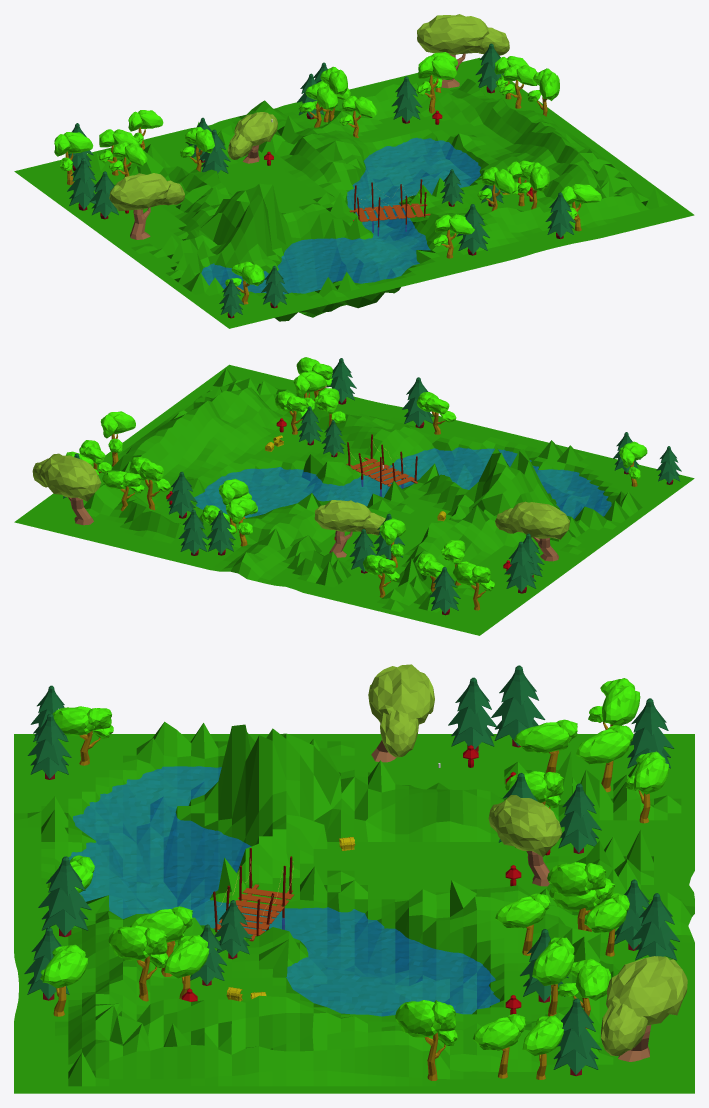
The model's file is terrenoLowPoly.fbx.
3 renders of one model, top to bottom at view 1: azimuth 30°, elevation 25°; view 2: azimuth 150°, elevation 25°; view 3: azimuth 270°, elevation 25°, orthographic. The views are drawn at different scales.
Parts seen in each view (by area): view 1: Plane001, arbol, Plane003, Cylinder011, Cylinder008, Cylinder010, hoja005, hoja013, hoja021, hoja015, hoja006, hoja020 (+4 smaller); view 2: Plane001, arbol, Plane003, Cylinder011, Cylinder008, Cylinder010, hoja005, hoja008, hoja017, hoja021, hoja016, hoja013 (+5 smaller); view 3: Plane001, Plane003, arbol, Cylinder011, Cylinder008, Cylinder010, hoja013, hoja005, hoja020, hoja006, hoja017, hoja011 (+8 smaller).
Part boxes in pixels (left/top/right/bottom): Plane001: left=14, top=57, right=694, bottom=328; arbol: left=54, top=52, right=601, bottom=304; Plane003: left=201, top=138, right=480, bottom=294; Cylinder011: left=417, top=14, right=509, bottom=88; Cylinder008: left=109, top=173, right=184, bottom=239; Cylinder010: left=227, top=112, right=277, bottom=163; hoja005: left=67, top=158, right=96, bottom=210; hoja013: left=456, top=204, right=489, bottom=255; hoja021: left=391, top=76, right=421, bottom=123; hoja015: left=545, top=192, right=575, bottom=238; hoja006: left=89, top=171, right=118, bottom=219; hoja020: left=475, top=43, right=503, bottom=93; Plane001: left=14, top=364, right=694, bottom=635; arbol: left=66, top=357, right=647, bottom=610; Plane003: left=194, top=447, right=611, bottom=518; Cylinder011: left=32, top=453, right=101, bottom=525; Cylinder008: left=495, top=501, right=569, bottom=561; Cylinder010: left=314, top=500, right=385, bottom=557; hoja005: left=504, top=541, right=538, bottom=593; hoja008: left=429, top=567, right=460, bottom=615; hoja017: left=178, top=509, right=208, bottom=555; hoja021: left=167, top=471, right=197, bottom=518; hoja016: left=207, top=510, right=235, bottom=555; hoja013: left=402, top=377, right=433, bottom=428; Plane001: left=14, top=721, right=694, bottom=1093; Plane003: left=59, top=766, right=499, bottom=1016; arbol: left=40, top=678, right=668, bottom=1080; Cylinder011: left=601, top=956, right=687, bottom=1061; Cylinder008: left=368, top=664, right=434, bottom=762; Cylinder010: left=488, top=795, right=562, bottom=886; hoja013: left=38, top=856, right=91, bottom=936; hoja005: left=491, top=665, right=545, bottom=747; hoja020: left=553, top=998, right=601, bottom=1076; hoja006: left=448, top=677, right=497, bottom=751; hoja017: left=632, top=893, right=679, bottom=960; hoja011: left=558, top=783, right=601, bottom=853.
Size of the model in its own units: 22273 by 6040 by 17633.
